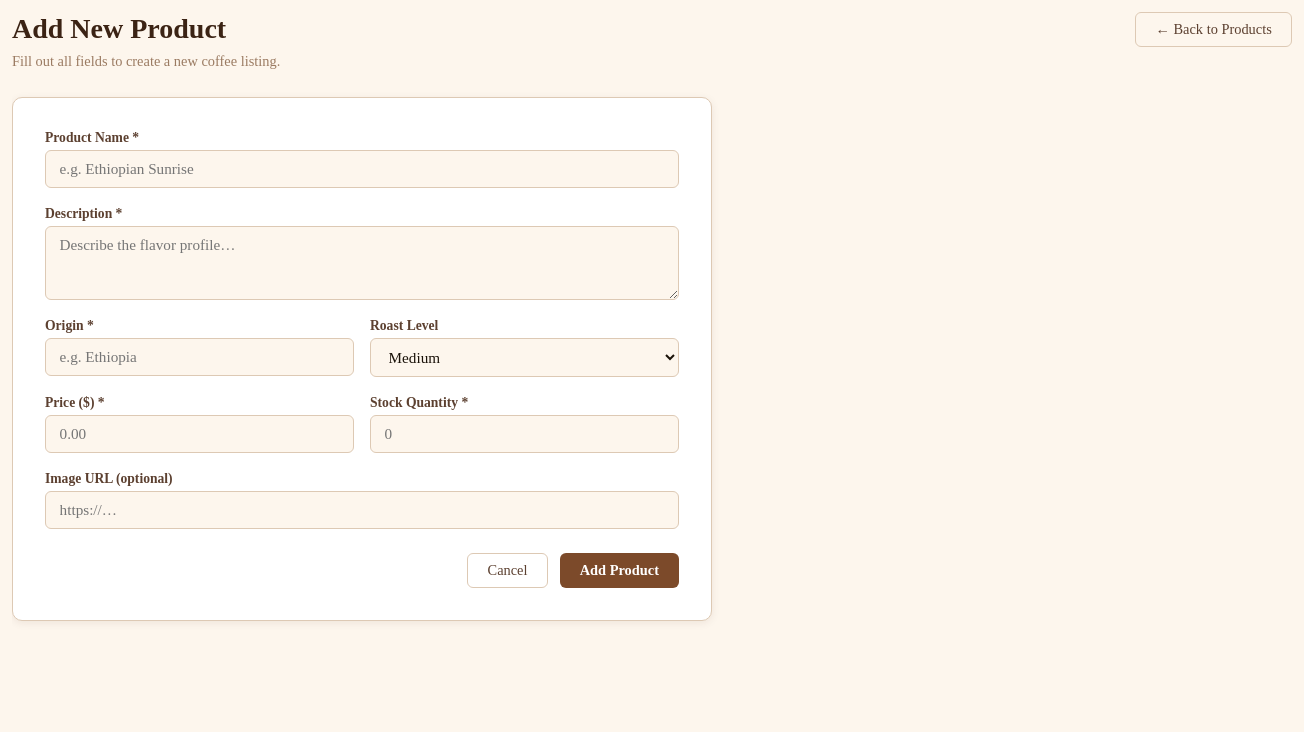
Scenario: AddProductPage › shows price validation error for invalid price
This screenshot has width=1304, height=732.
Step 1. Type "Test Coffee" into the field labelled "Product Name *" → (362, 169), box [45,150,679,188]
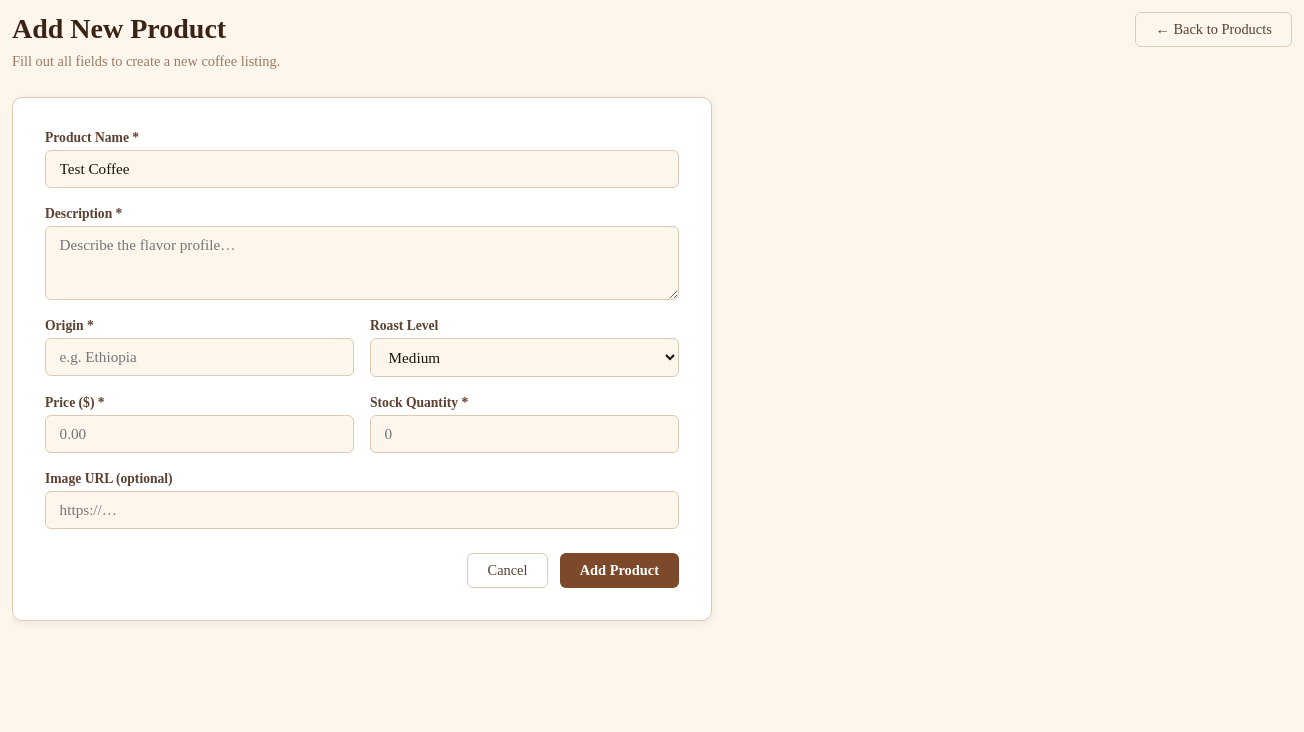
Step 2. Type "Great taste" into the text box labelled "Description *" → (362, 263), box [45,226,679,300]
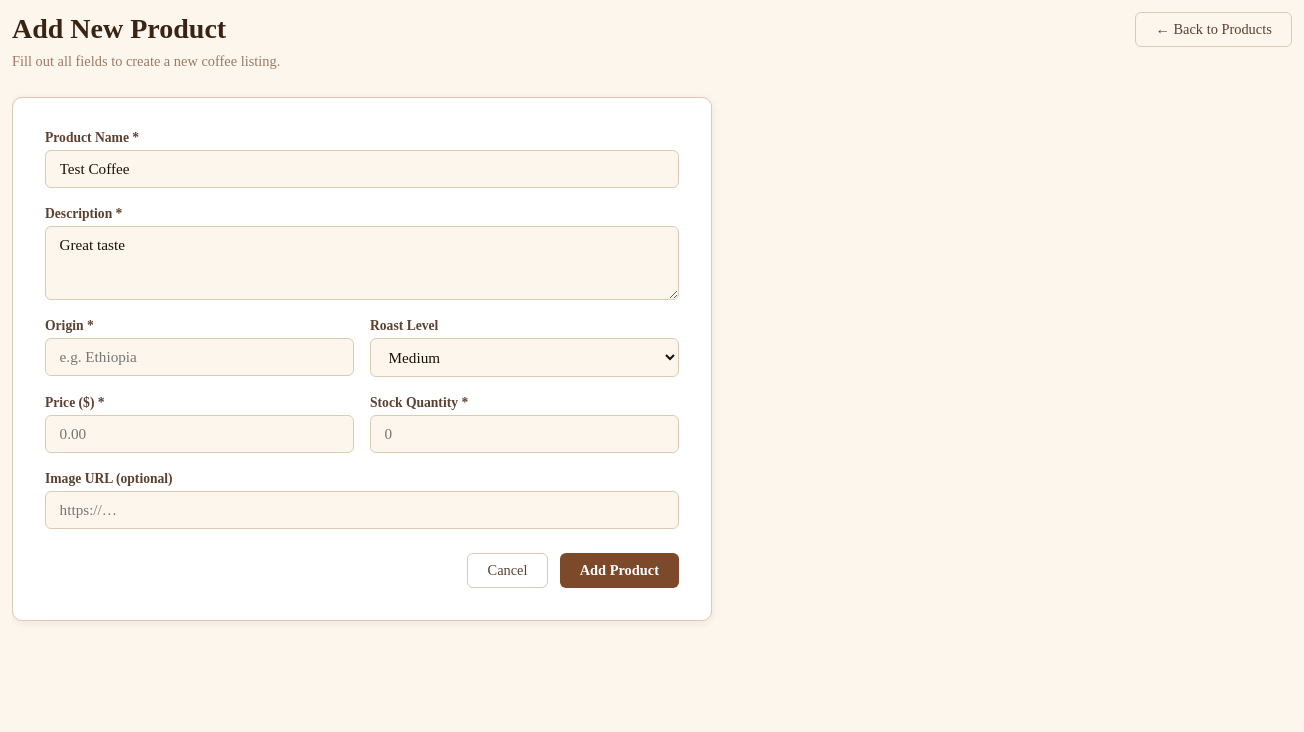
Step 3. Type "Brazil" into the field labelled "Origin *" → (200, 357), box [45,338,354,376]
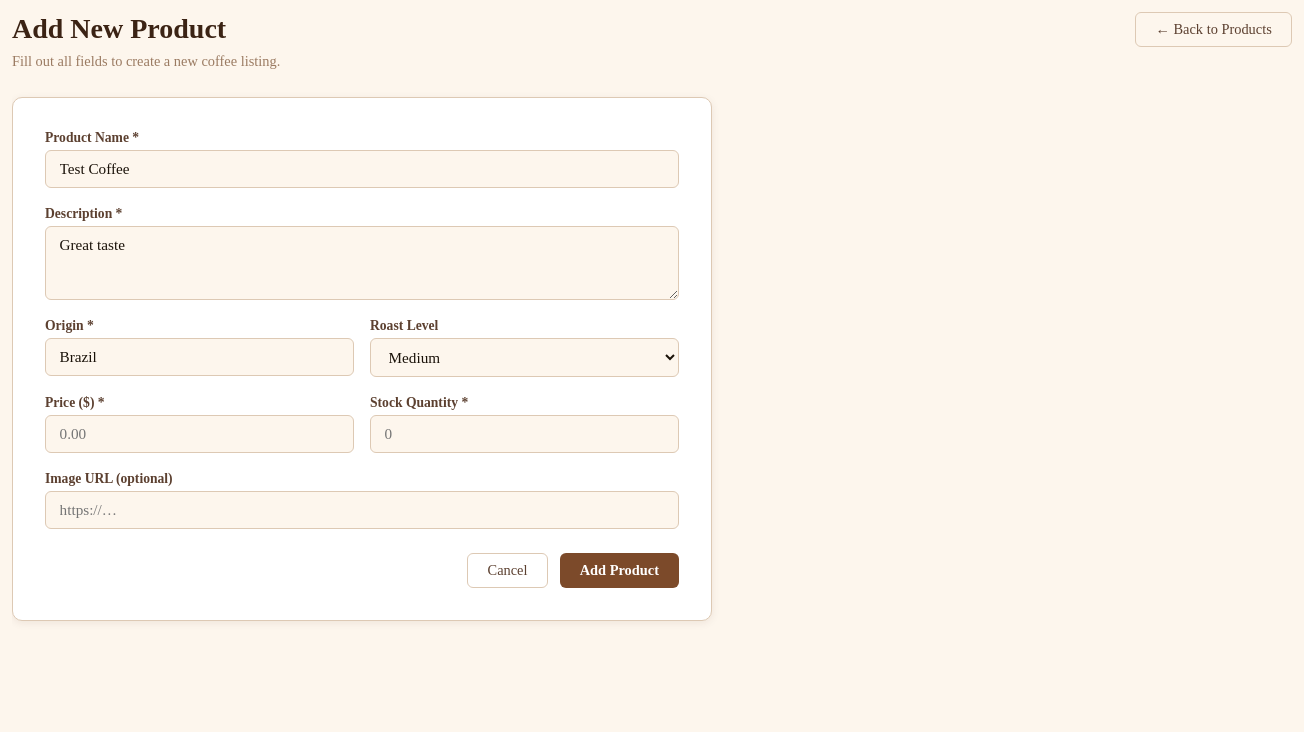
Step 4. Type "-5" into the number field labelled "Price ($) *" → (200, 434), box [45,415,354,453]
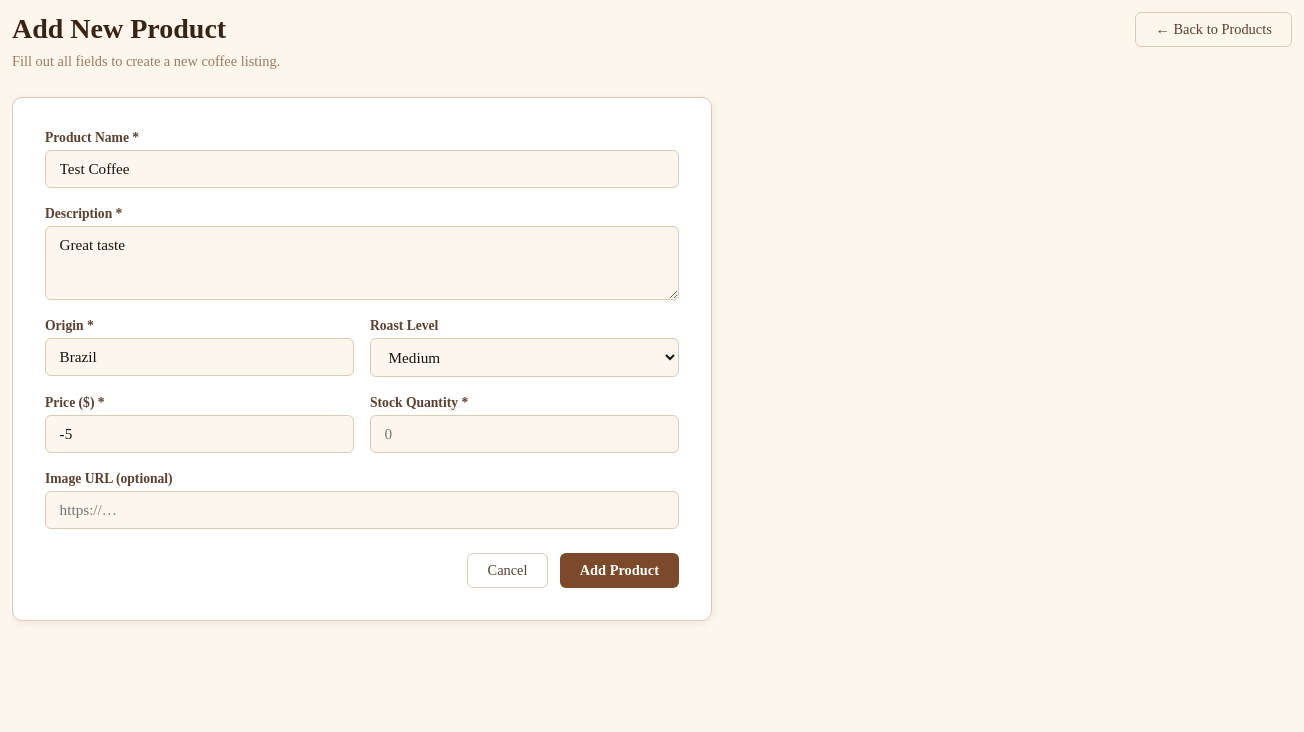
Step 5. Type "10" into the number field labelled "Stock Quantity *" → (524, 434), box [370,415,679,453]
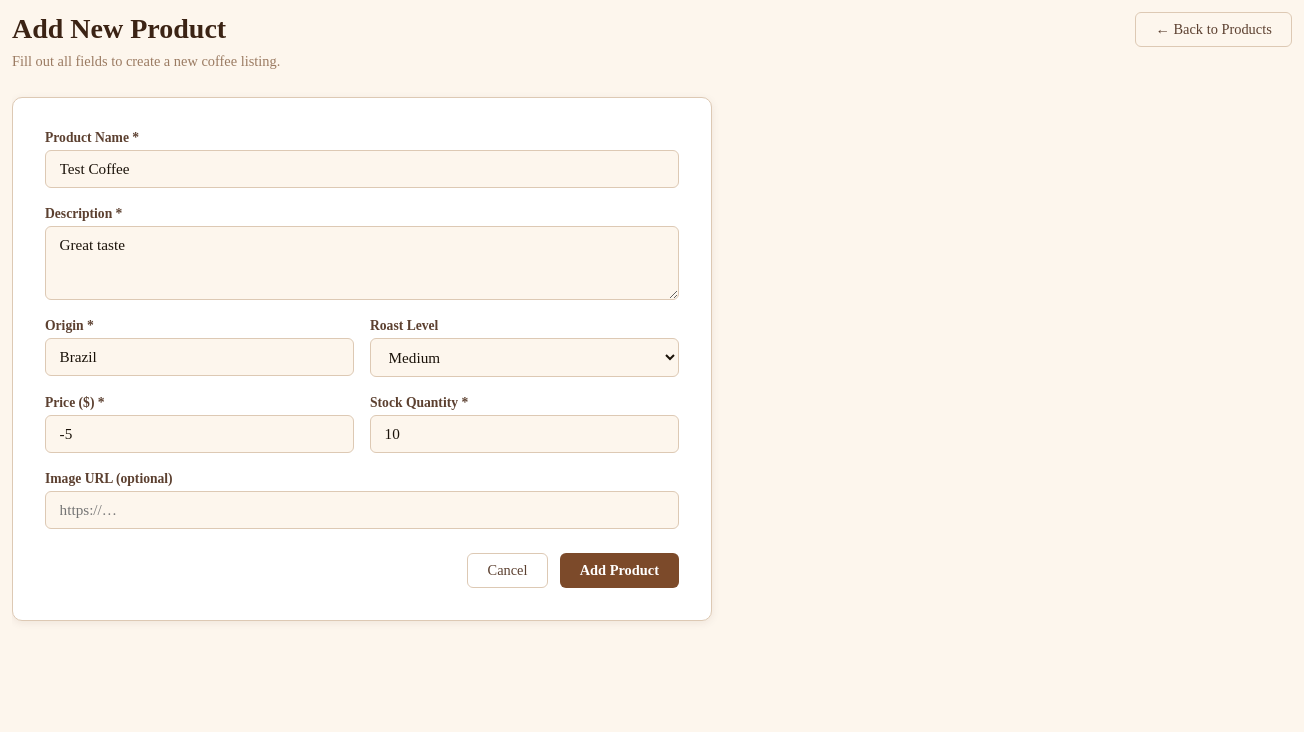
Step 6. Click the button "Add Product" → (619, 570), box [560,553,679,588]
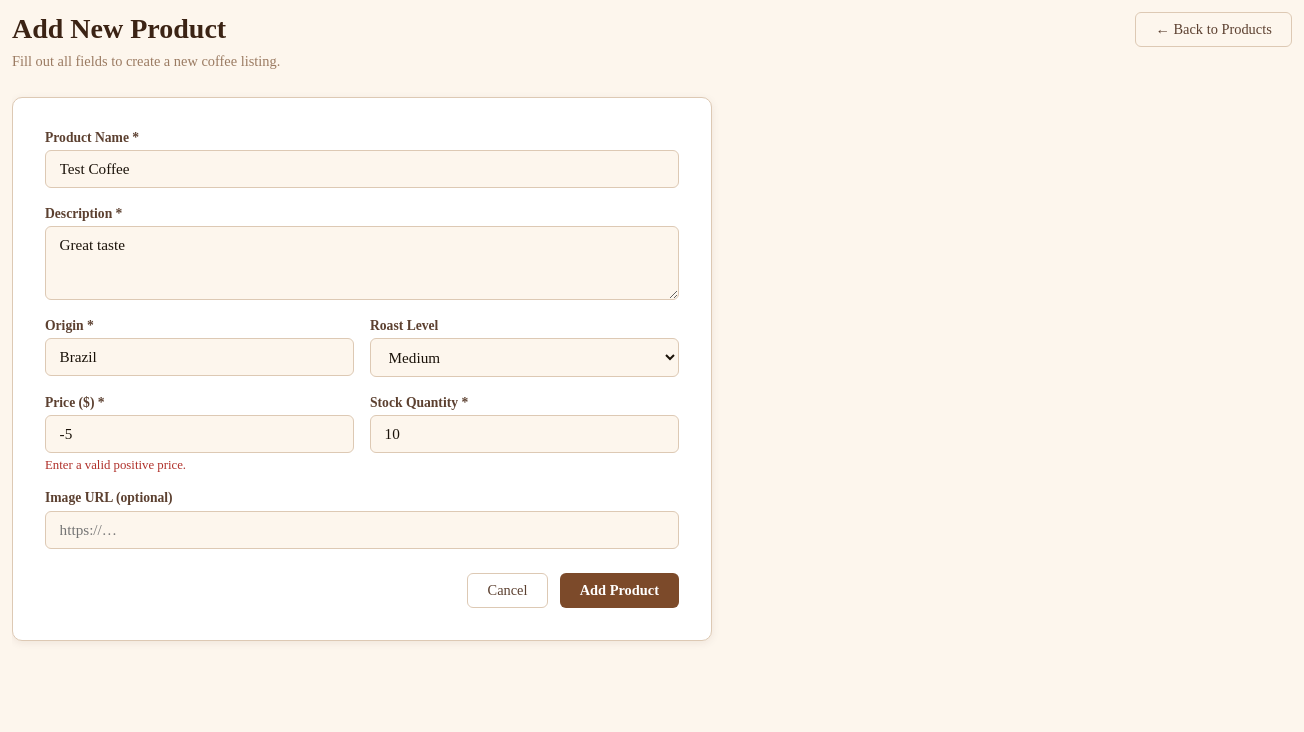
Expected: the text "Enter a valid positive price." is shown, [45,458,186,472]
